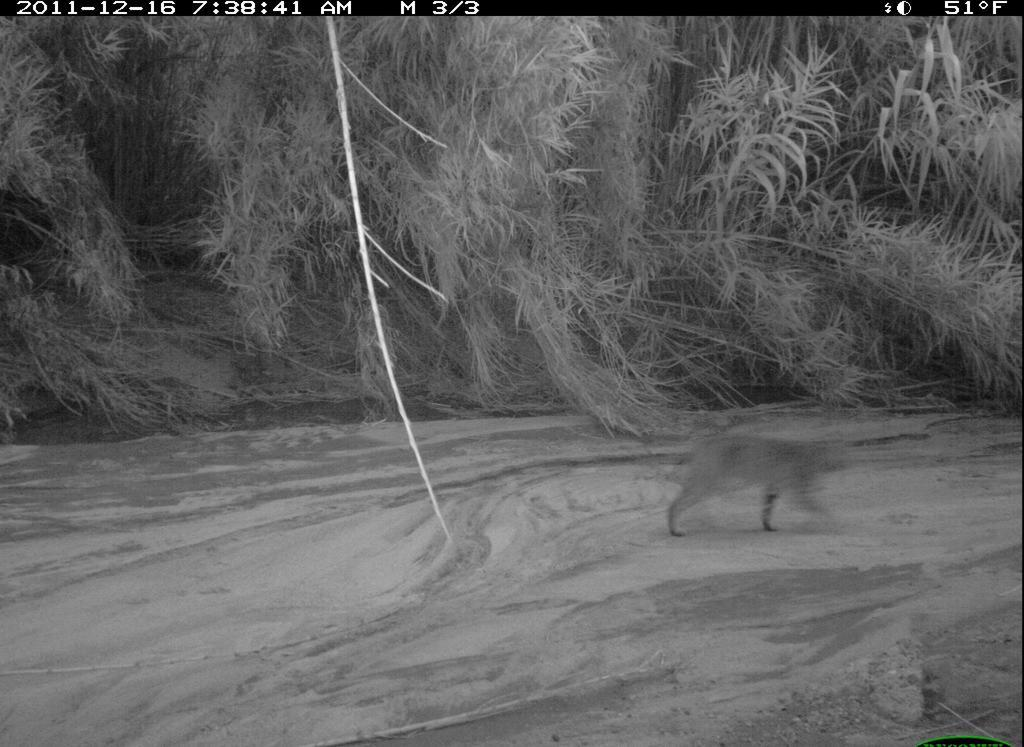bobcat: (638, 418, 861, 546)
